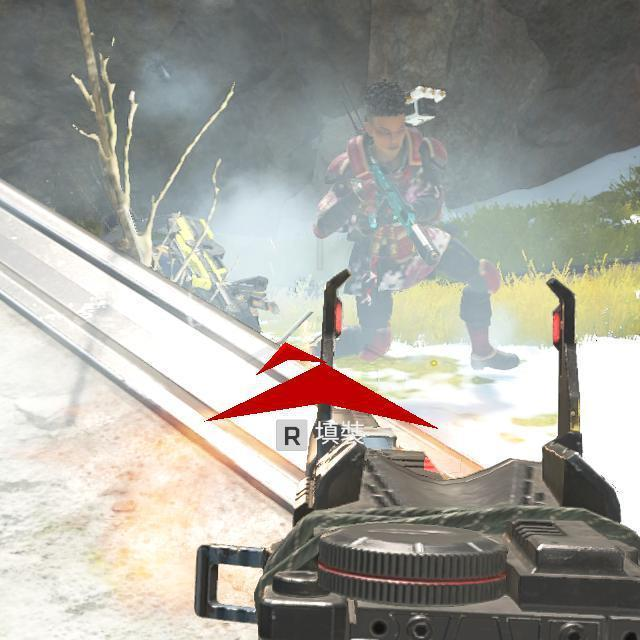avatar: (309, 83, 504, 371)
